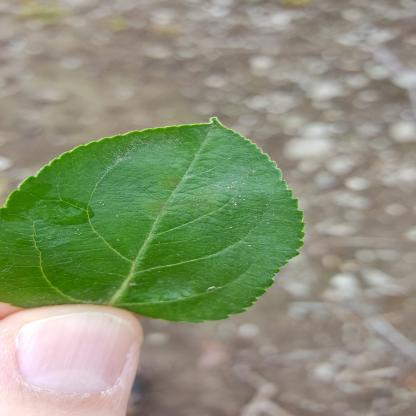Apple leaf: (2, 111, 309, 325)
